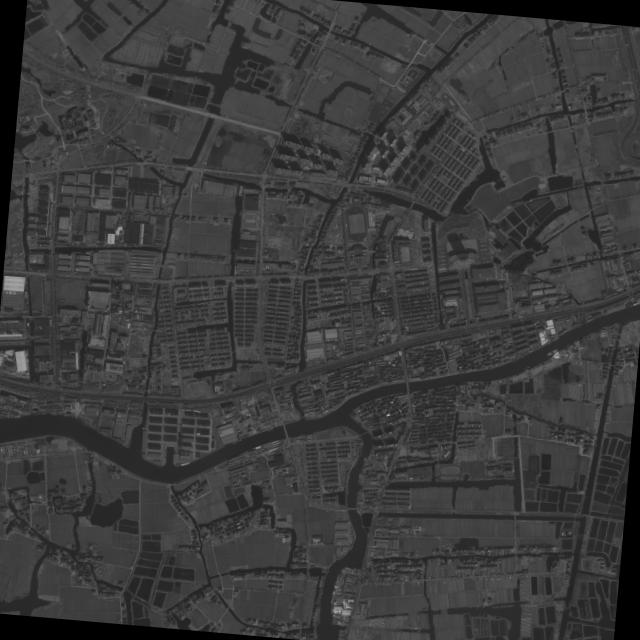ship: (550, 348, 557, 352), (522, 366, 529, 370), (546, 352, 552, 356), (552, 350, 557, 353), (547, 352, 551, 355), (565, 343, 570, 345)
